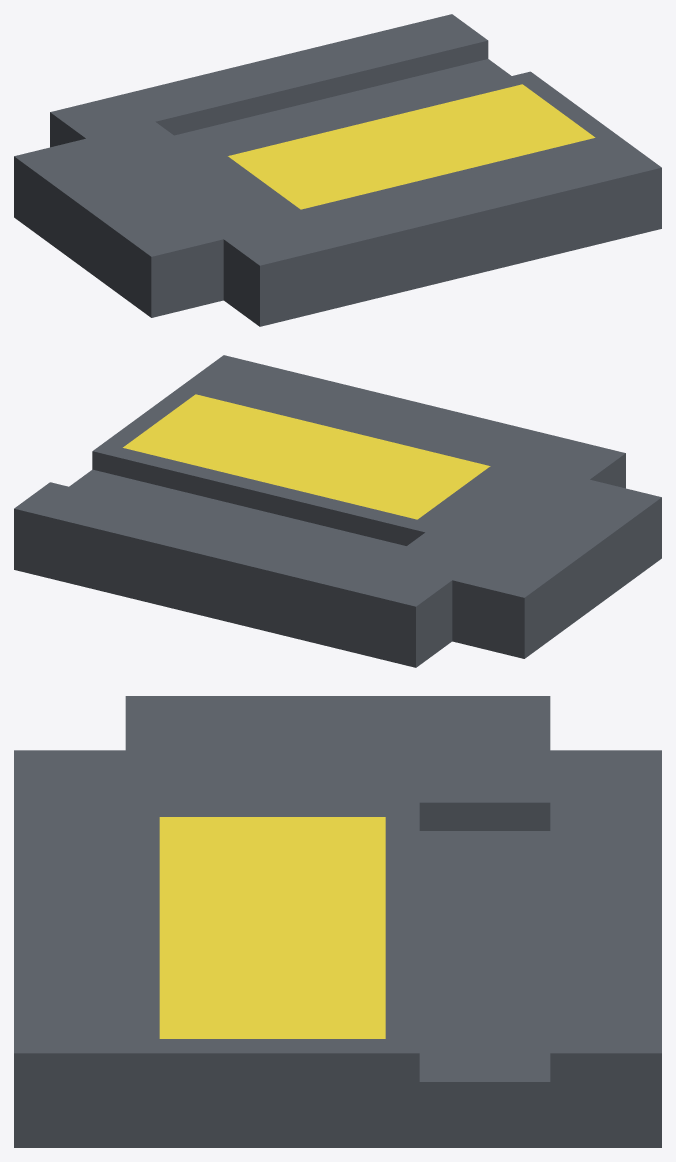
File: Game_cartridge_01.fbx
3 renders of one model, top to bottom at view 1: azimuth 30°, elevation 25°; view 2: azimuth 150°, elevation 25°; view 3: azimuth 270°, elevation 25°, orthographic. The views are drawn at different scales.
Visible parts, largest first — view 1: Plane.263; view 2: Plane.263; view 3: Plane.263.
Part boxes in pixels (x1,y1,x2,y2): Plane.263: (14,14,661,326); Plane.263: (14,355,661,667); Plane.263: (14,696,661,1147).
Bounding box in the file's own units: 0.3778 × 0.2895 × 0.0466.
